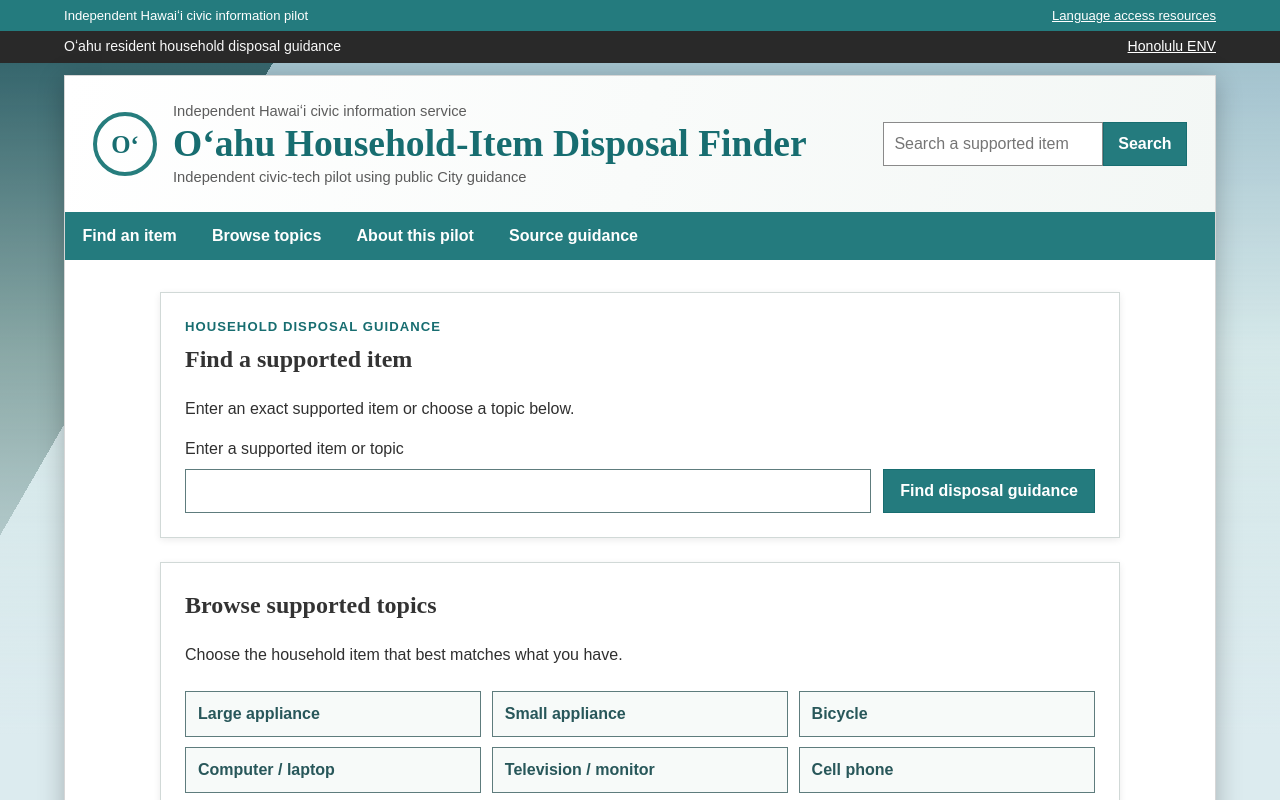
Test case: topic browse › resolves an exact canonical topic after benign input normalization
Type "  propane   TANK / cylinder  " into the search field labelled "Enter a supported item or topic".
click(528, 491); type("  propane   TANK / cylinder  ")  # box [185, 469, 871, 513]
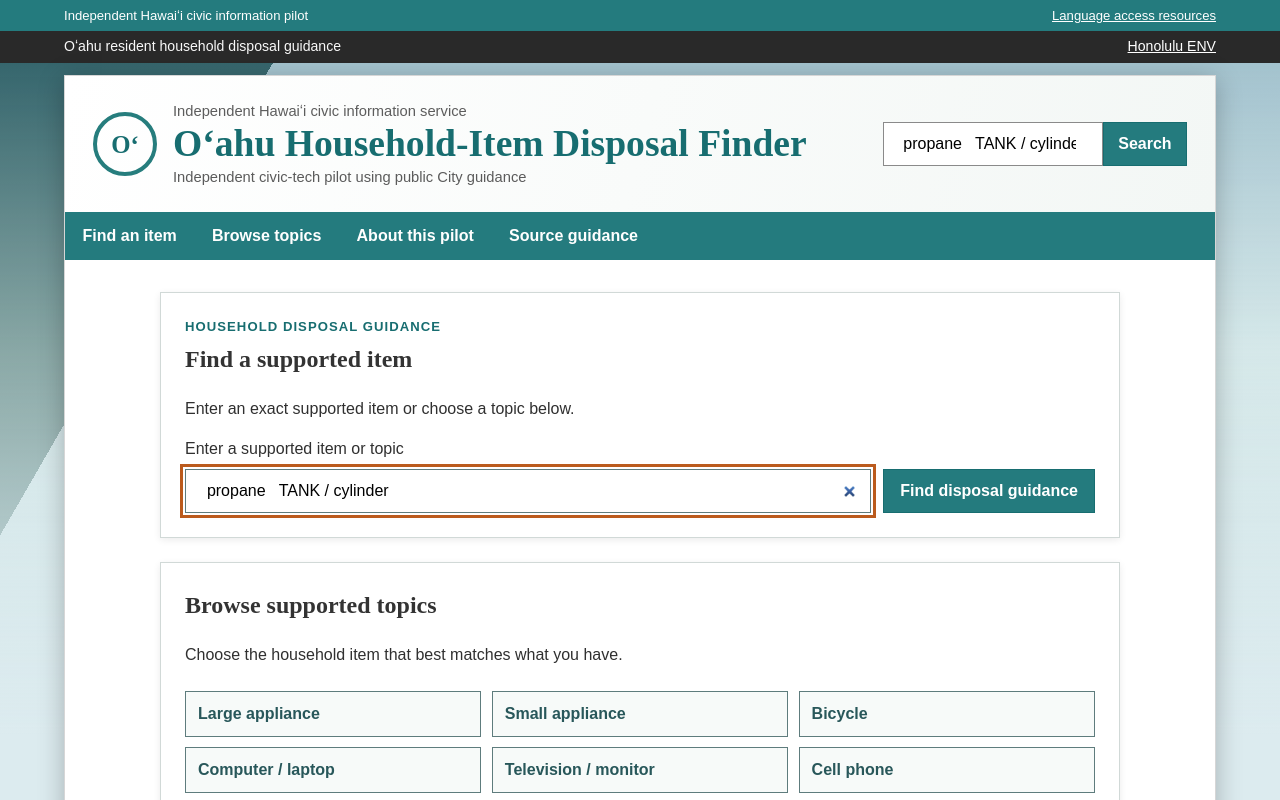
Click the button "Search".
click(1145, 144)  # box [1103, 122, 1187, 166]
(page scrolled)
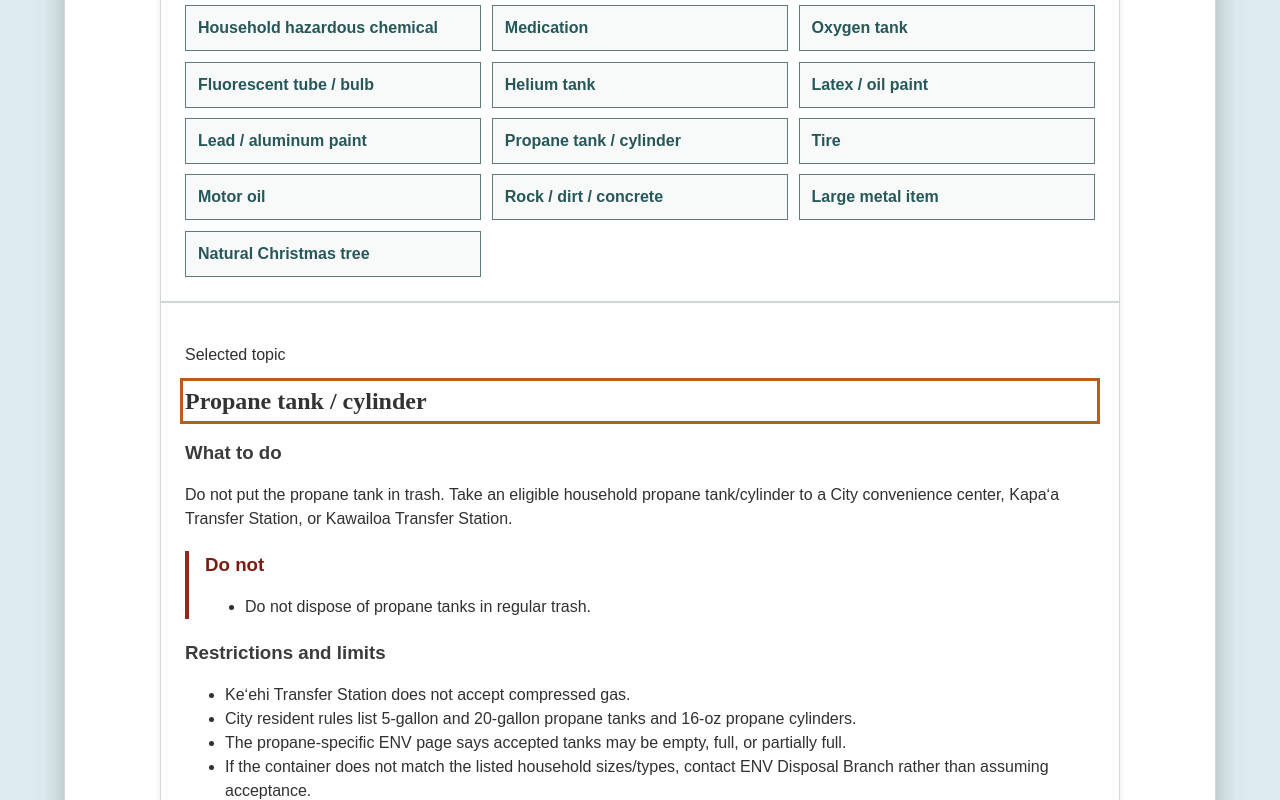
Result: the heading "Propane tank / cylinder" is shown at [185, 388, 427, 414]
Result: the list item "Do not dispose of propane tanks in regular trash." is shown at [245, 598, 591, 615]
